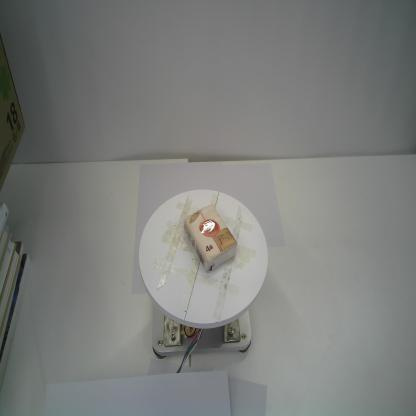Tissue: (183, 203, 238, 272)
